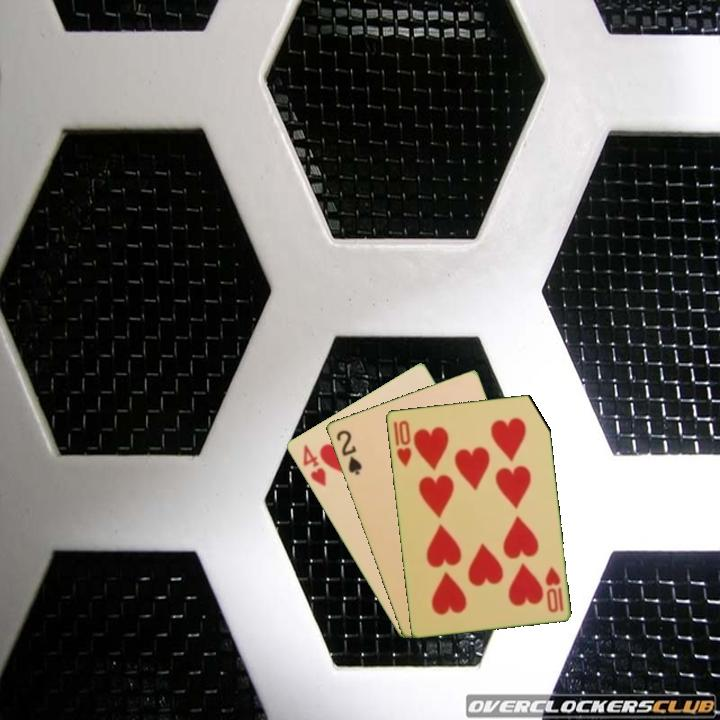10h: (541, 563, 566, 615), (390, 416, 414, 470)
2s: (332, 426, 364, 478)
4h: (299, 441, 329, 489)
